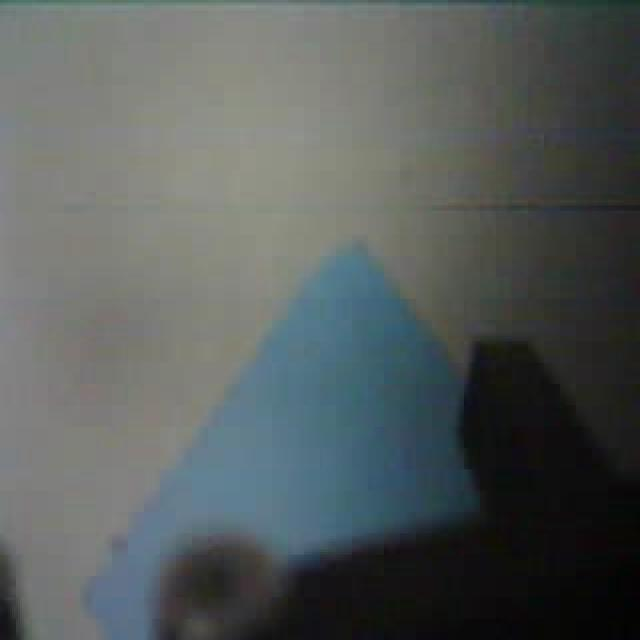blue_box: (82, 235, 484, 637)
